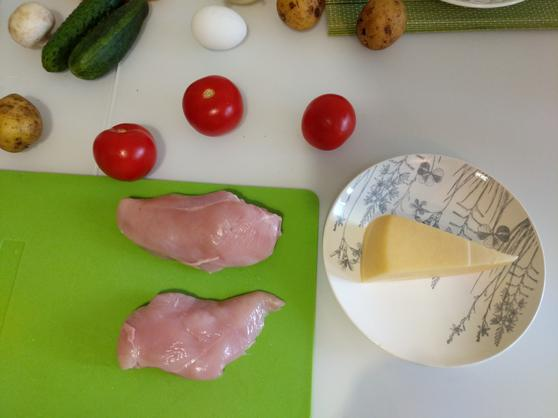champignon: (1, 1, 60, 48)
cheese: (357, 211, 517, 287)
chicken_fillet: (117, 285, 289, 376), (120, 193, 290, 273)
cucumber: (72, 5, 160, 79), (39, 3, 106, 70)
egg: (190, 3, 253, 56)
potato: (357, 1, 414, 56), (1, 91, 47, 159), (280, 2, 329, 38)
tomato: (89, 118, 163, 184), (184, 76, 245, 133), (300, 90, 356, 150)
